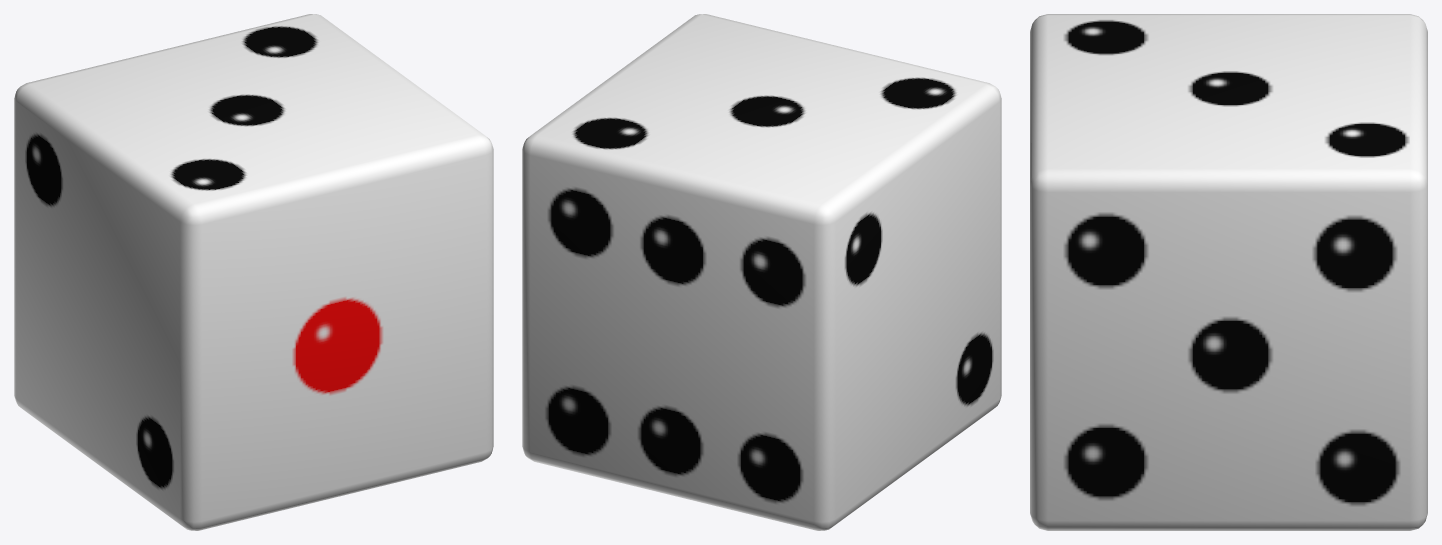
Rendered from Dice.fbx.
3 renders of one model, left to right at view 1: azimuth 30°, elevation 25°; view 2: azimuth 150°, elevation 25°; view 3: azimuth 270°, elevation 25°, orthographic. The views are drawn at different scales.
Visible parts, largest first — view 1: Cube; view 2: Cube; view 3: Cube.
Boxes of the visible parts, left/top/right/bottom form: Cube: left=14, top=14, right=493, bottom=530; Cube: left=522, top=14, right=1001, bottom=530; Cube: left=1030, top=14, right=1427, bottom=530.
Bounding box in the file's own units: 1 × 1 × 1.
Materials: 1 (1 with a texture image).
